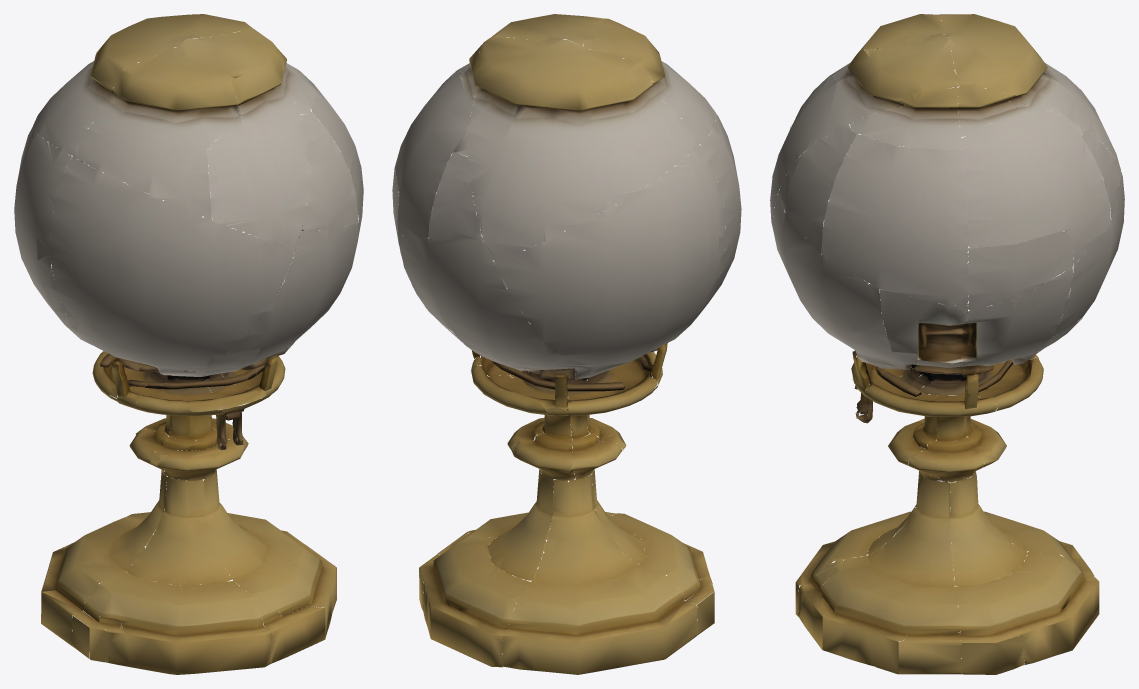
Rendered from Prop_Lamp_TableOil.glb.
3 views of the same model, side by side, from view 1: azimuth 30°, elevation 25°; view 2: azimuth 150°, elevation 25°; view 3: azimuth 270°, elevation 25° (orthographic).
Parts seen in each view (by area): view 1: tripo_node_c0098eff-9ec4-46b4-b543-e437ed9b647d; view 2: tripo_node_c0098eff-9ec4-46b4-b543-e437ed9b647d; view 3: tripo_node_c0098eff-9ec4-46b4-b543-e437ed9b647d.
Boxes of the visible parts, x1,y1,x2,y2 form: tripo_node_c0098eff-9ec4-46b4-b543-e437ed9b647d: (14, 14, 363, 674); tripo_node_c0098eff-9ec4-46b4-b543-e437ed9b647d: (392, 14, 741, 674); tripo_node_c0098eff-9ec4-46b4-b543-e437ed9b647d: (770, 14, 1124, 674).
Size of the model in its own units: 0.5561 by 1 by 0.5577.
Materials: 1 (1 with a texture image).
